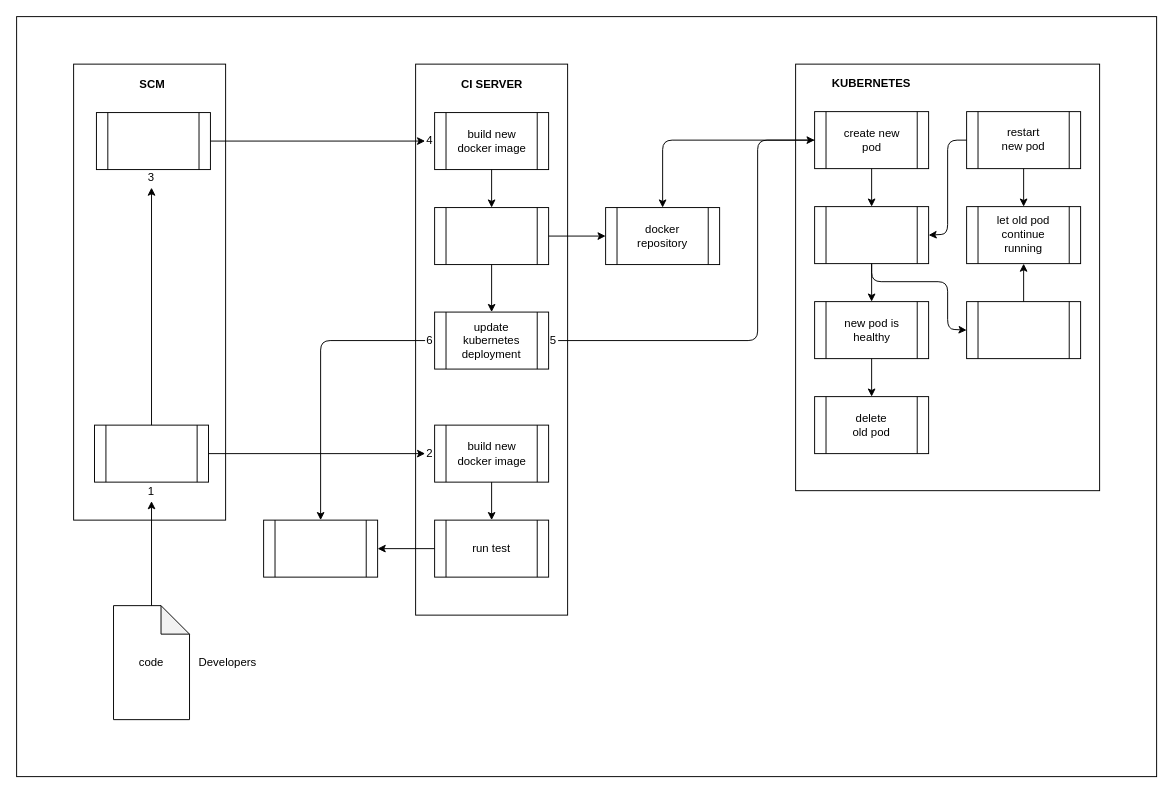
Image size: 1173x793. Some labels were removed from this diagram. Here are the shapes that lost their labels. From the top down, the centre of each, then its label:
At (152,141): "merge pull request".
At (491,236): "push new docker image".
At (871,235): "check pod health".
At (1023,330): "new pod is not healthy".
At (151,453): "pull request".
At (320,548): "notification".
